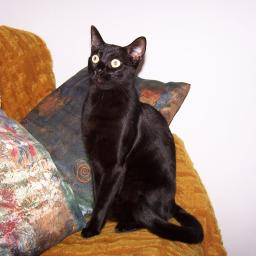catnose: (93, 67, 106, 77)
